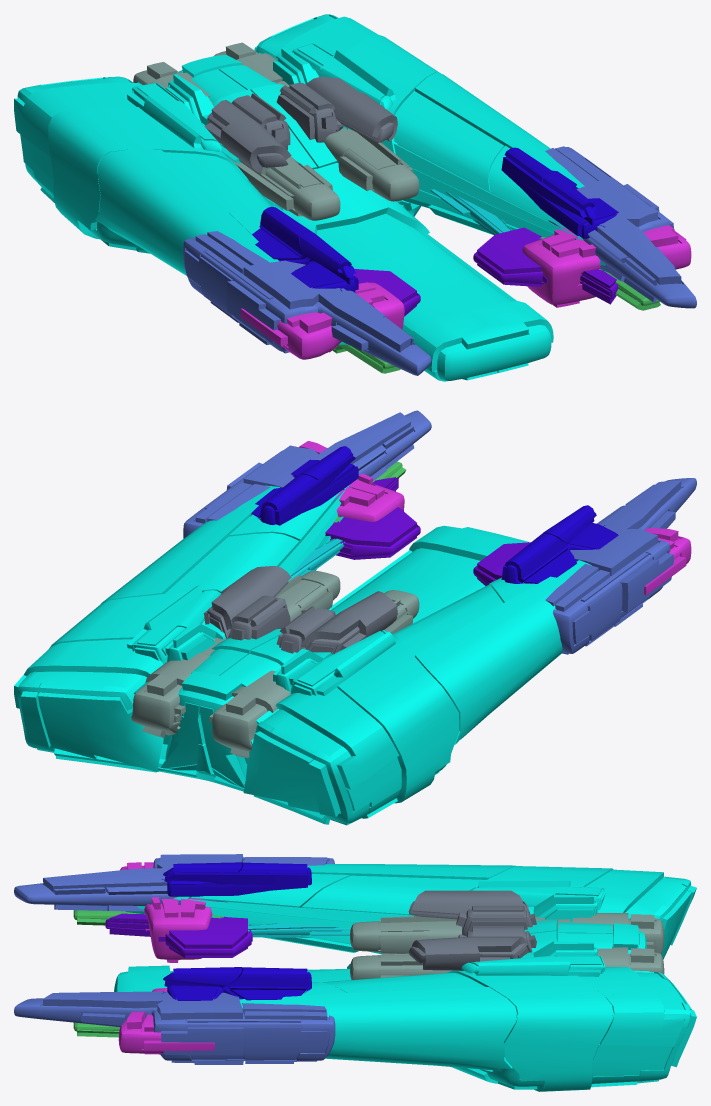
Rendered from Spaceship_Human_V1.fbx.
The picture shows the model from 3 angles, top to bottom: view 1: azimuth 30°, elevation 25°; view 2: azimuth 150°, elevation 25°; view 3: azimuth 270°, elevation 25°; orthographic projection. The views are drawn at different scales.
Parts seen in each view (by area): view 1: Shipwright.001; view 2: Shipwright.001; view 3: Shipwright.001.
Part boxes in pixels (box(x1,y1,x2,y2)): Shipwright.001: box(14, 14, 696, 381); Shipwright.001: box(14, 410, 696, 825); Shipwright.001: box(14, 854, 696, 1091).
Bounding box in the file's own units: 316 × 93.3 × 521.
